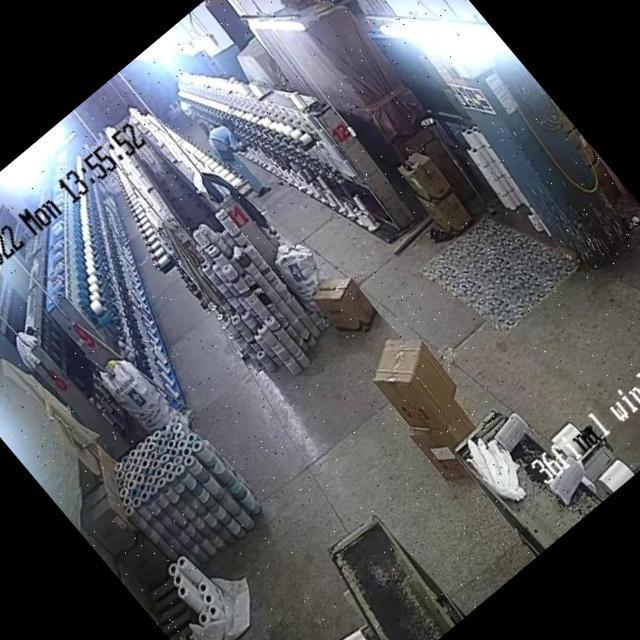person: (198, 112, 274, 194)
